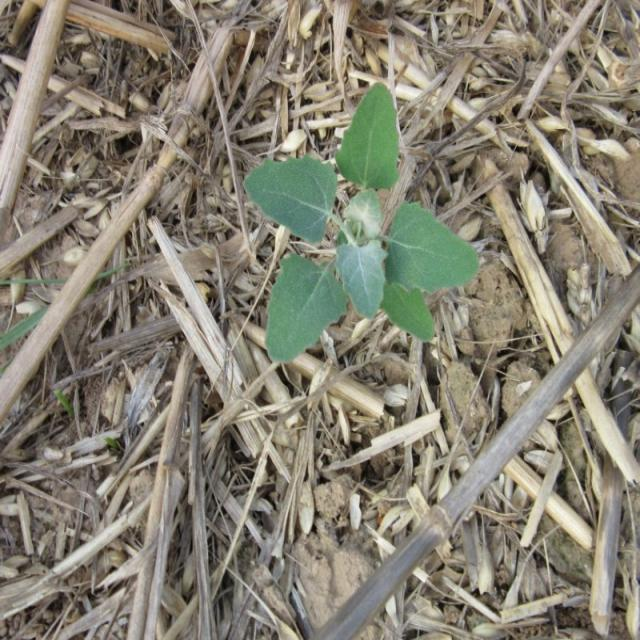ca: (243, 84, 480, 363)
